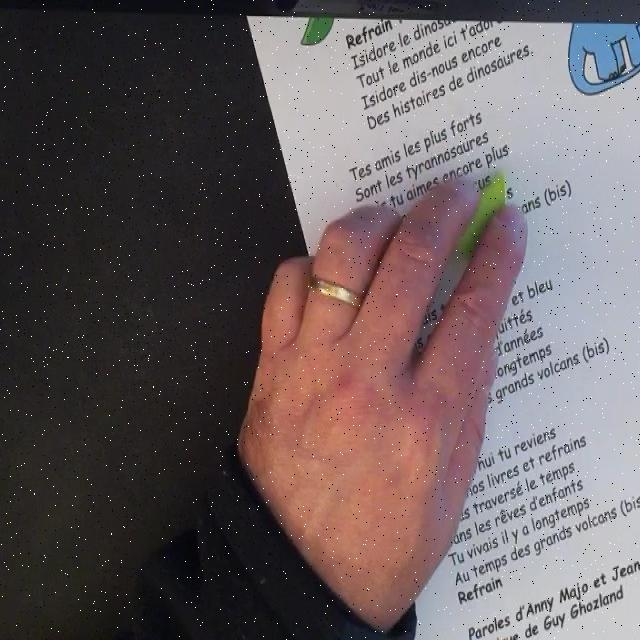triangle: (434, 170, 512, 271)
